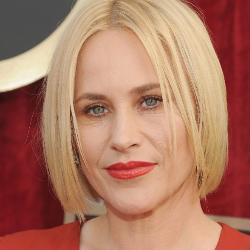face: (27, 1, 238, 231)
